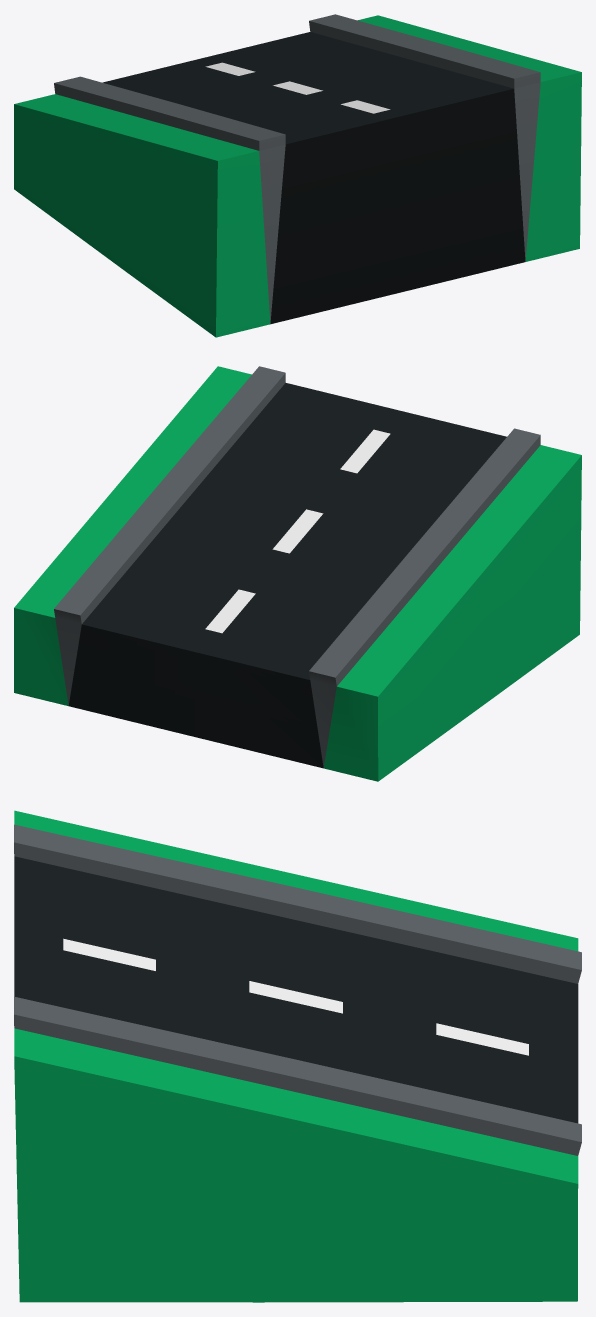
The model's file is CARRETERA PENDIENTE.fbx.
The picture shows the model from 3 angles, top to bottom: view 1: azimuth 30°, elevation 25°; view 2: azimuth 150°, elevation 25°; view 3: azimuth 270°, elevation 25°; orthographic projection. The views are drawn at different scales.
Parts seen in each view (by area): view 1: normal.003; view 2: normal.003; view 3: normal.003.
Boxes of the visible parts, box(x1,y1,x2,y2) form: normal.003: box(14, 14, 581, 337); normal.003: box(14, 366, 581, 781); normal.003: box(14, 810, 581, 1302).
Bounding box in the file's own units: 900 × 879 × 444.
1 material, 1 textured.
